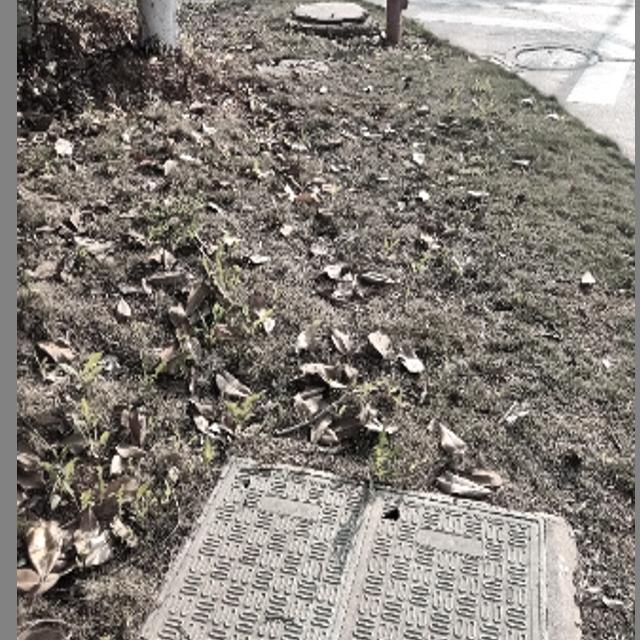good: (70, 451, 554, 640)
